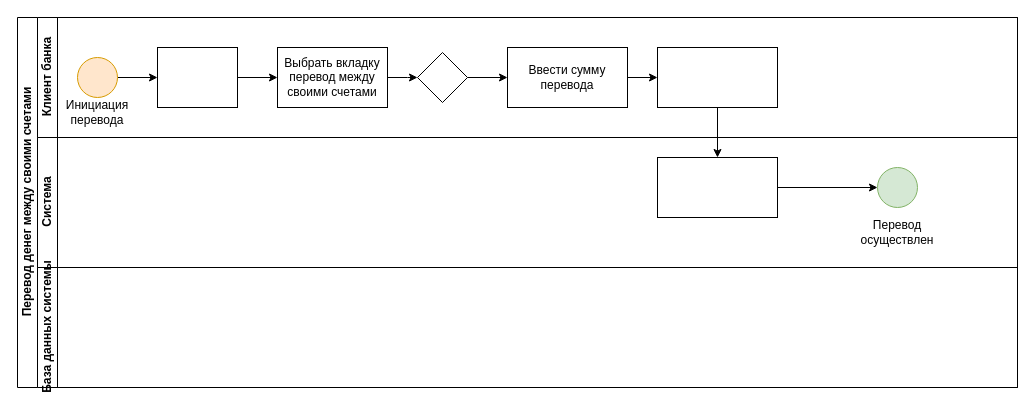
Some shapes in this 1035 by 411 pixel diagram are drawn without their labels. Here are the shapes that lost their labels. From the top down, the centre of each, then its label:
(x=197, y=77): Зайти в приложение банка
(x=717, y=77): Подтвердить перевод кнопкой "Перевести"
(x=717, y=187): Вывести страницу подтверждения с остатками по двум счетам
